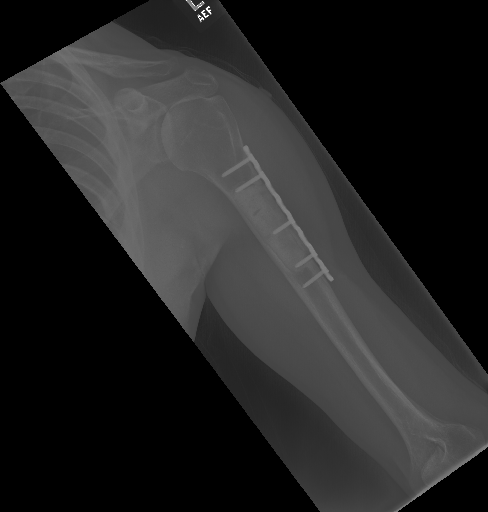implant: (221, 143, 268, 200), (292, 243, 335, 293), (270, 210, 297, 243)
